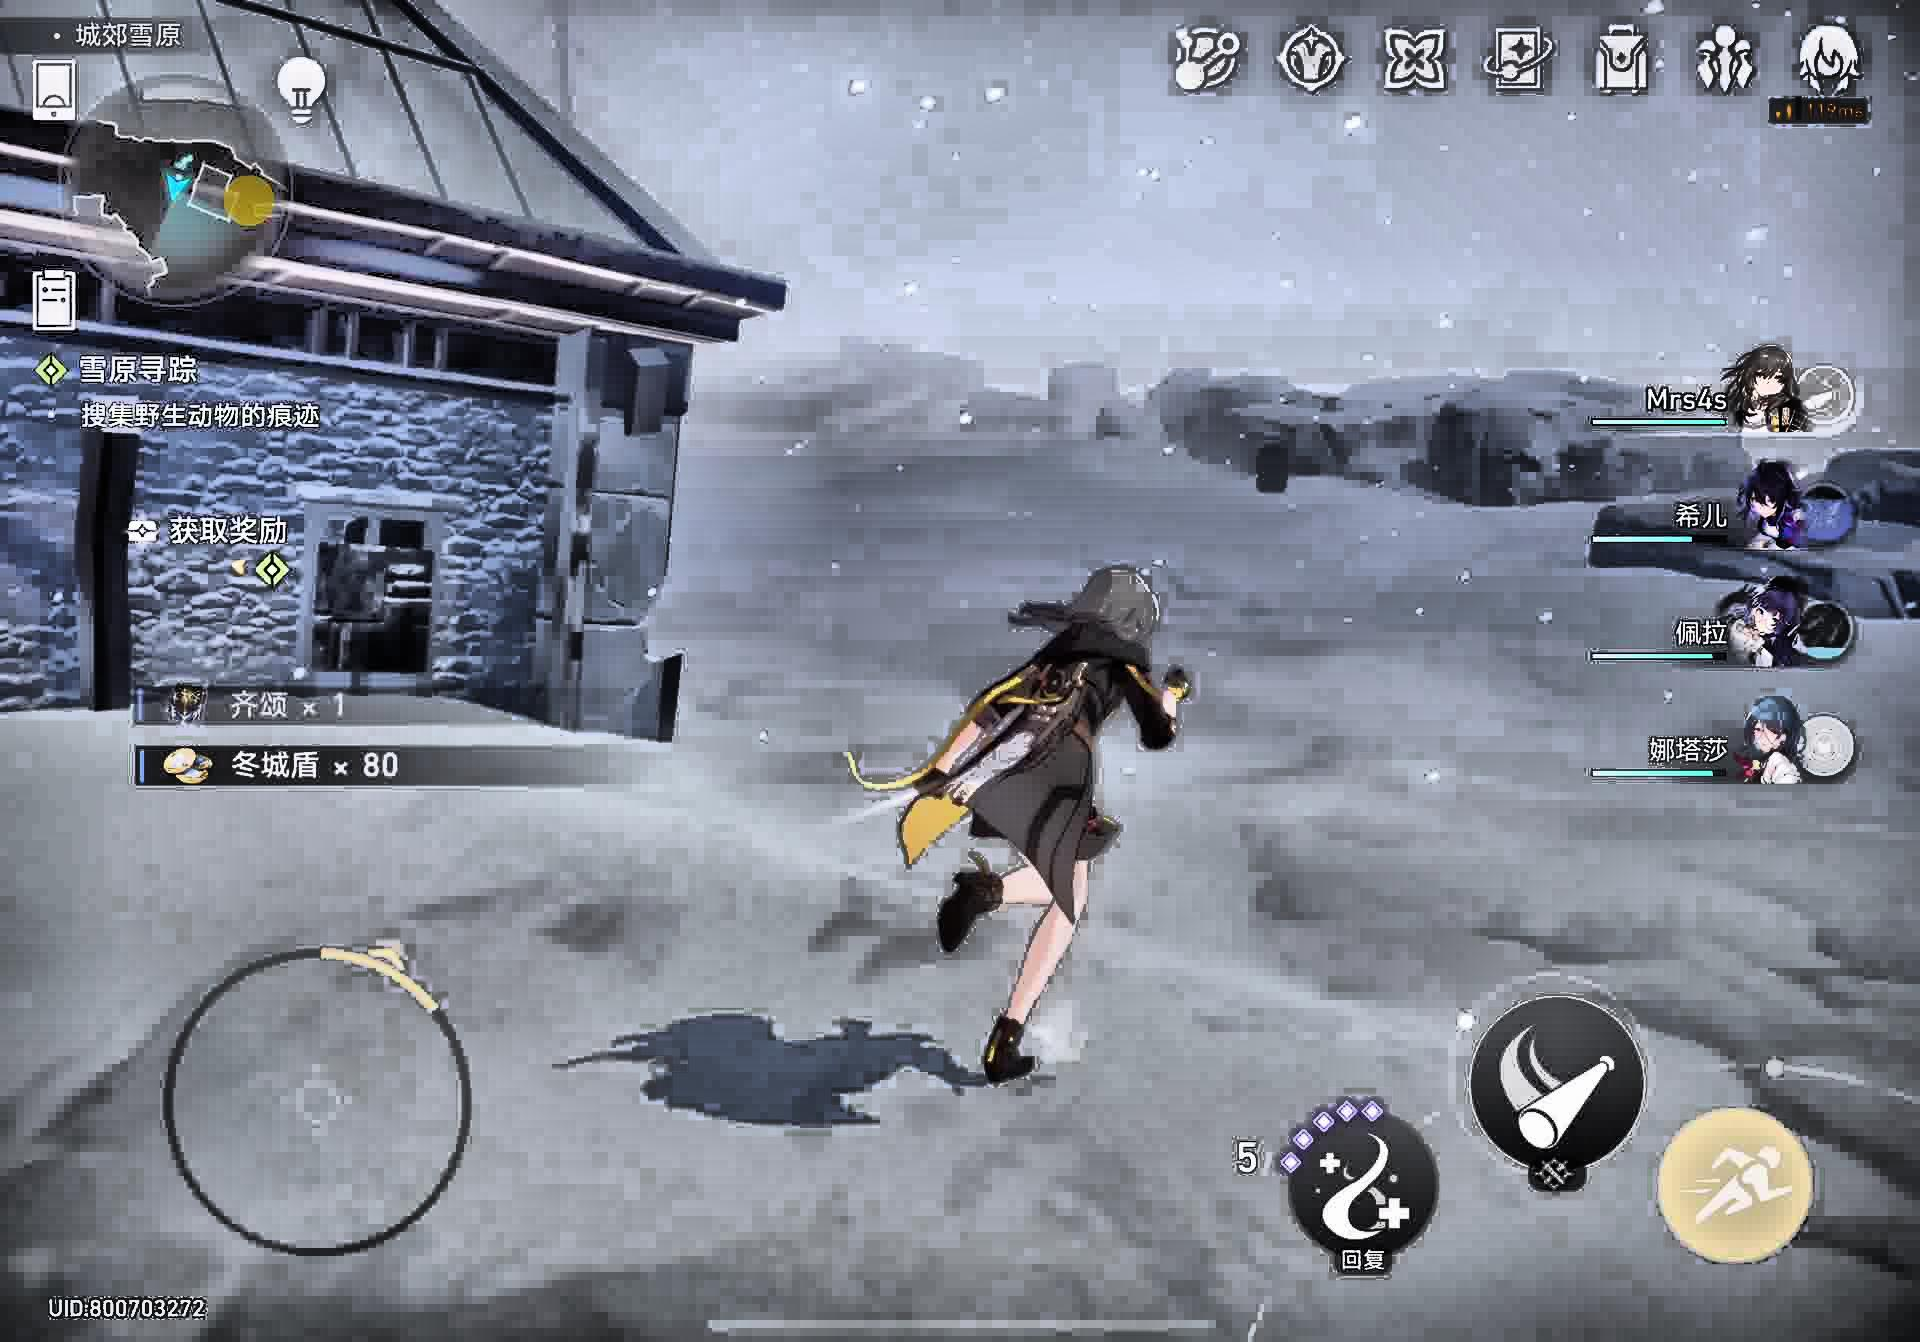Box: (1246, 430, 1304, 503)
Self: (842, 562, 1196, 1091)
